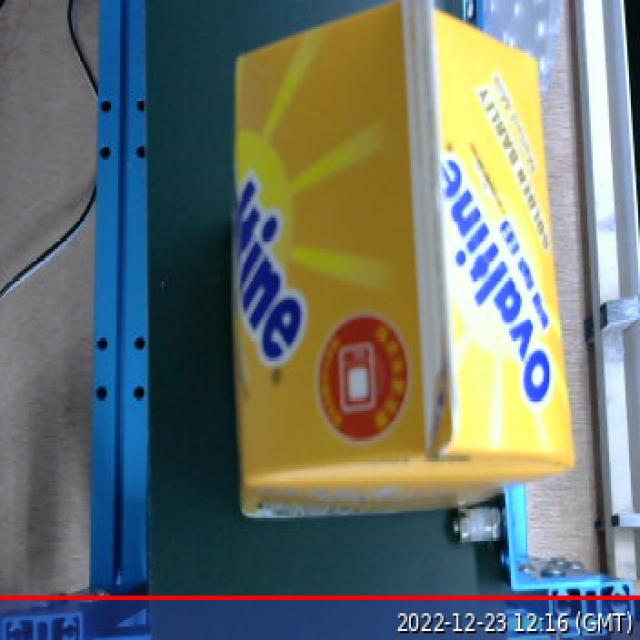non_white_jug: (213, 3, 595, 530)
